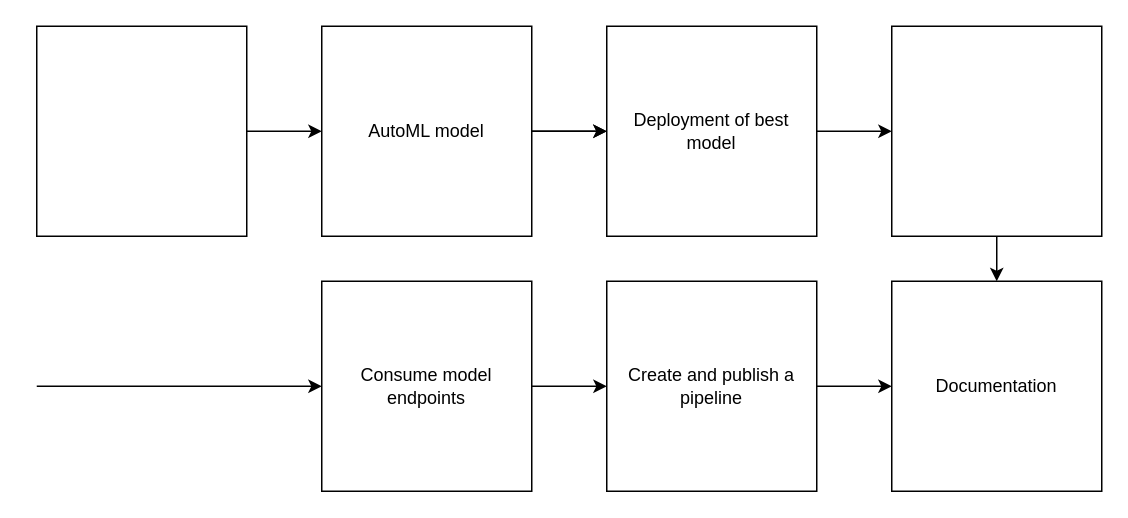
The diagram is 1128 pixels wide and 518 high, and some of its shapes have lost their labels. Here are the shapes that lost their labels. From the top down, the centre of each, then its label:
At (141,130): "Authentication".
At (996,130): "Enable logging".
